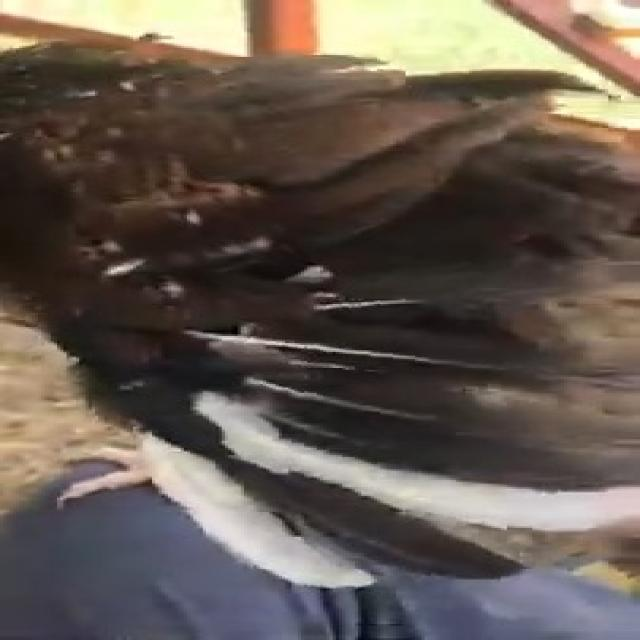wingstretching: (0, 44, 640, 582)
